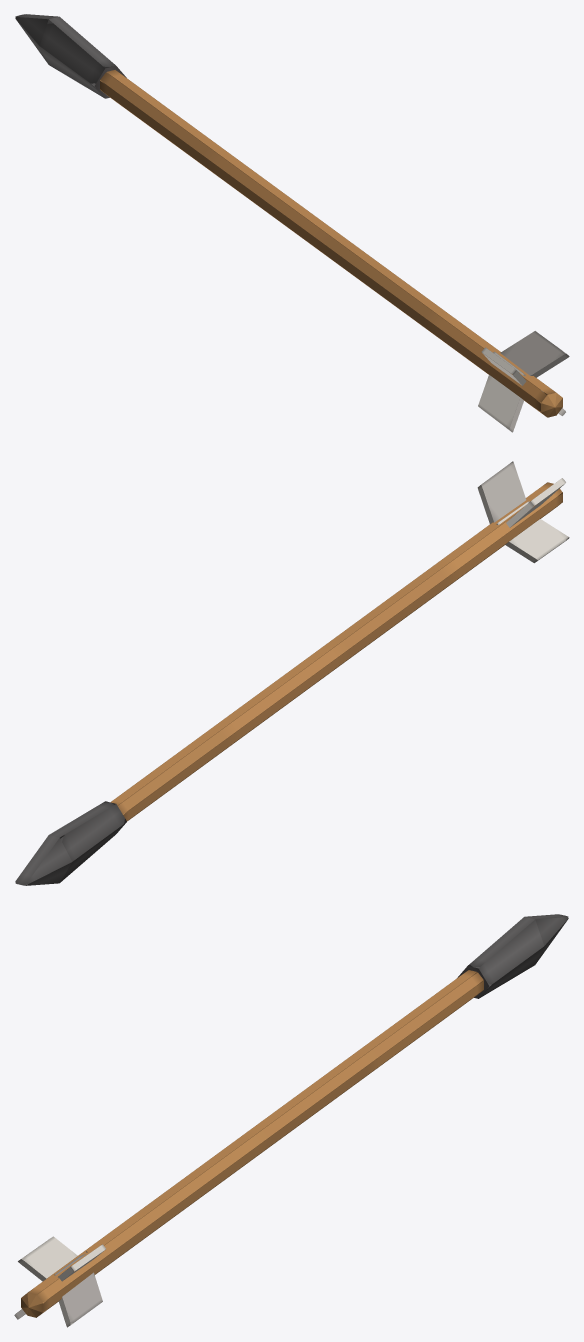
File: Arrow.fbx
3 views of the same model, one above another, from view 1: azimuth 30°, elevation 25°; view 2: azimuth 150°, elevation 25°; view 3: azimuth 330°, elevation 25° (orthographic).
Parts seen in each view (by area): view 1: cylinder; view 2: cylinder; view 3: cylinder.
Boxes of the visible parts, bbox=[...] form: cylinder: bbox=[15, 14, 569, 432]; cylinder: bbox=[15, 461, 569, 885]; cylinder: bbox=[14, 914, 568, 1327].
Size of the model in its own units: 1.75 by 1.82 by 26.56.
1 material, 1 textured.
